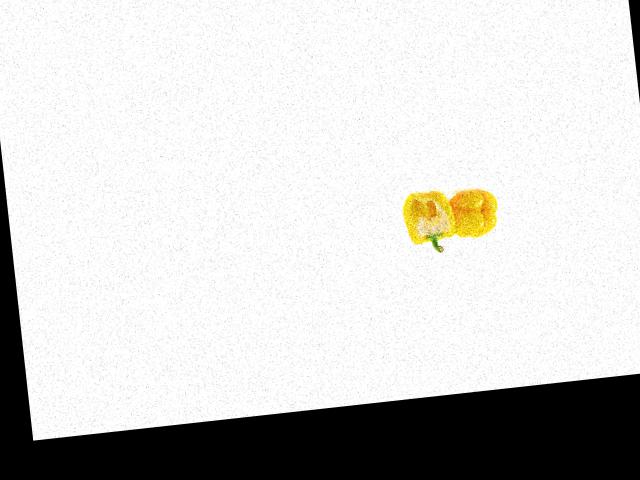bell_pepper: (396, 176, 467, 257)
